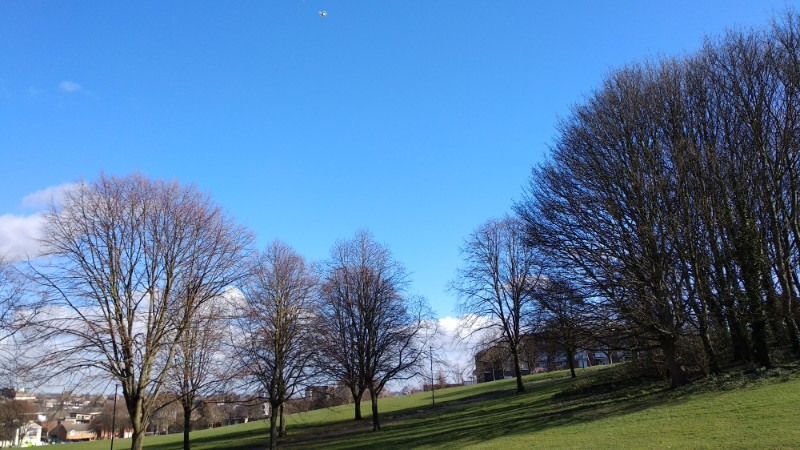drone: (318, 10, 330, 19)
